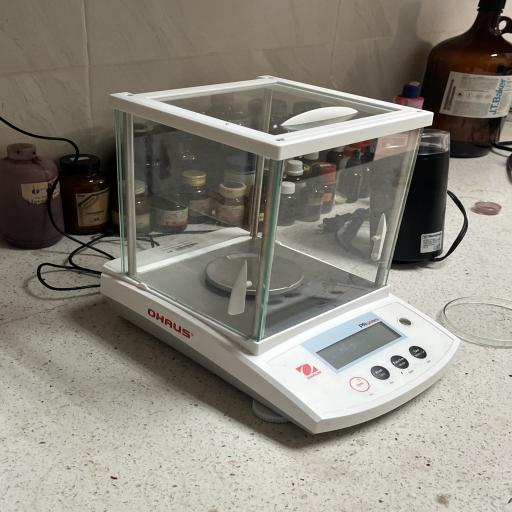Balanza_Analitica_Ohaus: (98, 70, 472, 440)
